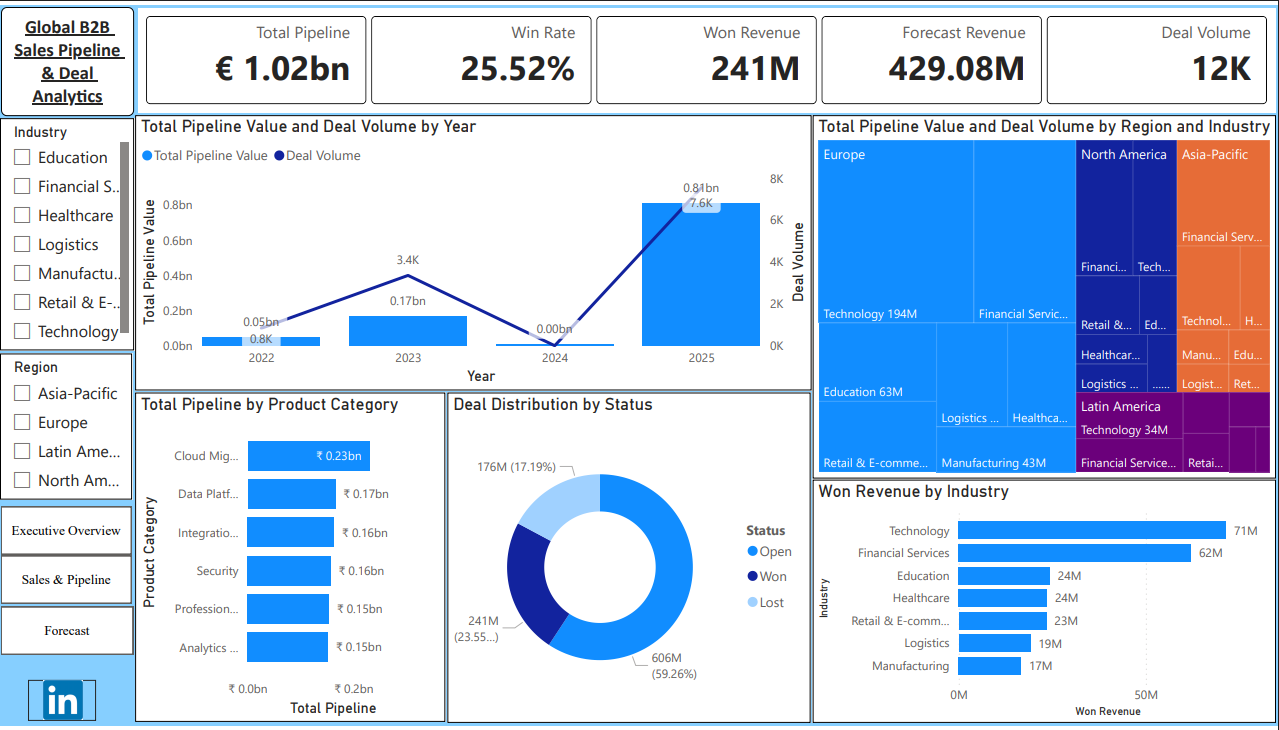

Layout of this report page (visuals, bound fields, positions):
{"tool":"powerbi","page":{"name":"Executive Overview","canvas":[1280,720],"ordinal":0},"visuals":[{"type":"cardVisual","title":"Quick Insights","fields":{"Data":["Sum(FactDeals.DealValueEUR)","FactDeals.Win Rate%","FactDeals.Won Revenue","FactDeals.Forecast Revenue","FactDeals.Deal Volume"]},"box":[140,3.2,1137,104],"z":0},{"type":"textbox","box":[3.2,1.6,133,109],"z":1000},{"type":"actionButton","box":[3.2,550.4,130.4,47.7],"z":2000},{"type":"actionButton","box":[3.2,501,130.4,47.7],"z":3000},{"type":"actionButton","box":[3.2,601.3,132,47.7],"z":4000},{"type":"image","box":[30.2,674.4,68.4,41.4],"z":5000},{"type":"slicer","fields":{"Values":["DimCompany.Industry"]},"box":[1.6,112.9,133.6,232.2],"z":6000},{"type":"slicer","fields":{"Values":["DimCompany.Region"]},"box":[1.6,348.3,132,146.3],"z":7000},{"type":"lineStackedColumnComboChart","fields":{"Category":["DimDate.Date.Variation.Date Hierarchy.Year","DimDate.Date.Variation.Date Hierarchy.Month"],"Y":["FactDeals.Total Pipeline Value"],"Y2":["FactDeals.Deal Volume"]},"box":[136.8,109.8,676,275.2],"z":8000},{"type":"treemap","fields":{"Details":["DimCompany.Industry"],"Values":["FactDeals.Total Pipeline Value"],"Group":["DimCompany.Region Hierarchy.Region","DimCompany.Industry"]},"box":[814.4,109.8,462.9,362.7],"z":9000},{"type":"donutChart","title":"Deal Distribution by Status","fields":{"Category":["FactDeals.Status"],"Y":["Sum(FactDeals.DealValueEUR)"]},"box":[448.6,386.5,363,330],"z":10000},{"type":"barChart","title":"Total Pipeline by Product Category ","fields":{"Category":["FactDeals.ProductCategory"],"Y":["Sum(FactDeals.DealValueEUR)"]},"box":[136.8,386.5,310,329],"z":11000},{"type":"barChart","fields":{"Category":["DimCompany.Industry"],"Y":["FactDeals.Won Revenue"]},"box":[814.4,474,462.9,243.4],"z":12000}]}

Visuals, with their boxes in screenshot pixels (x1, y1, x2, y2), scaled from the page's 1280x720 canvas onto the 1279x730 screenshot:
"Quick Insights" cardVisual: locate(140, 3, 1276, 109)
textbox: locate(3, 2, 136, 112)
actionButton: locate(3, 558, 133, 606)
actionButton: locate(3, 508, 133, 556)
actionButton: locate(3, 610, 135, 658)
image: locate(30, 684, 99, 726)
slicer - DimCompany.Industry: locate(2, 114, 135, 350)
slicer - DimCompany.Region: locate(2, 353, 133, 501)
lineStackedColumnComboChart - DimDate.Date.Variation.Date Hierarchy.Year x DimDate.Date.Variation.Date Hierarchy.Month: locate(137, 111, 812, 390)
treemap - DimCompany.Industry x FactDeals.Total Pipeline Value: locate(814, 111, 1276, 479)
"Deal Distribution by Status" donutChart: locate(448, 392, 811, 726)
"Total Pipeline by Product Category " barChart: locate(137, 392, 446, 725)
barChart - DimCompany.Industry x FactDeals.Won Revenue: locate(814, 481, 1276, 727)
